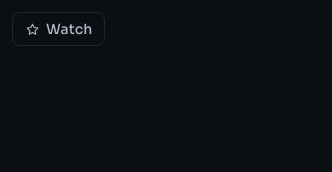
Test case: async watchlist add (price resolved through the service) › adds with the service-resolved priceAtAdd — never a placeholder
Click the button "Watch": (59, 29) left=12, top=12, right=105, bottom=46
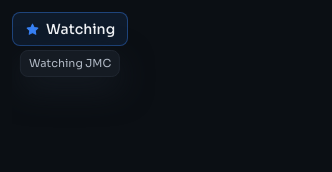
Now the button "Watching" is shown, box left=12, top=12, right=128, bottom=46
